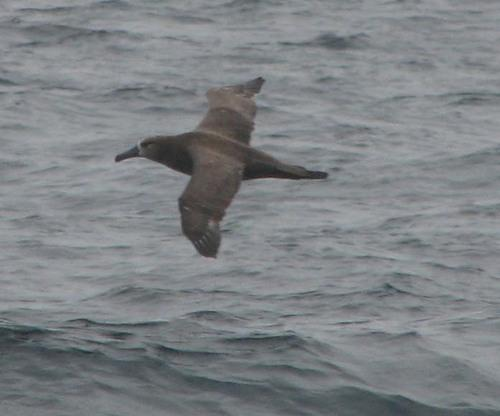001.Black_footed_Albatross: (113, 78, 332, 261)
